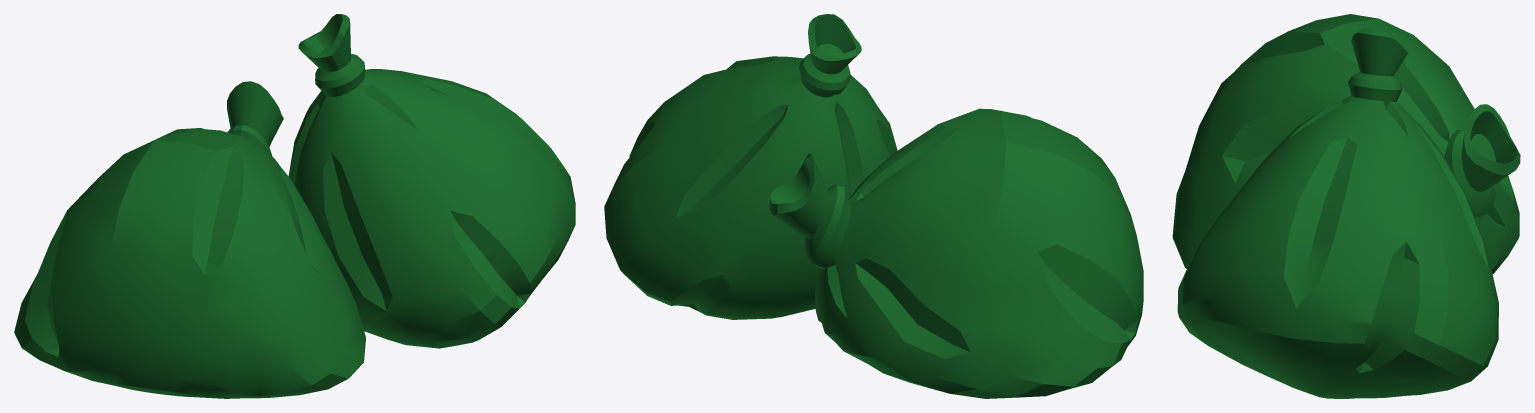
Rendered from vidrio.glb.
The picture shows the model from 3 angles, left to right: view 1: azimuth 30°, elevation 25°; view 2: azimuth 150°, elevation 25°; view 3: azimuth 270°, elevation 25°; orthographic projection. The views are drawn at different scales.
Parts seen in each view (by area): view 1: TrashBag_2; view 2: TrashBag_2; view 3: TrashBag_2.
Boxes of the visible parts, left/top/right/bottom form: TrashBag_2: left=14, top=14, right=575, bottom=398; TrashBag_2: left=604, top=14, right=1143, bottom=398; TrashBag_2: left=1172, top=14, right=1520, bottom=398.
Bounding box in the file's own units: 0.9061 × 0.53 × 0.5243.
